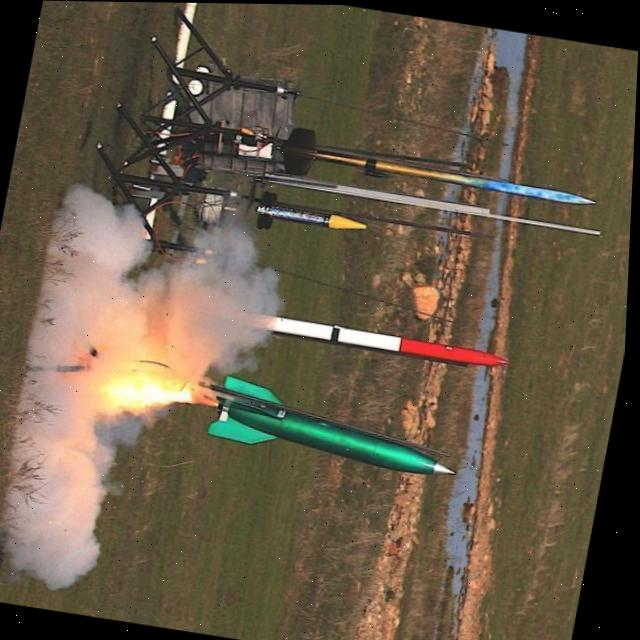missile: (206, 375, 474, 486), (269, 134, 601, 211), (232, 304, 518, 373), (241, 193, 387, 241)
